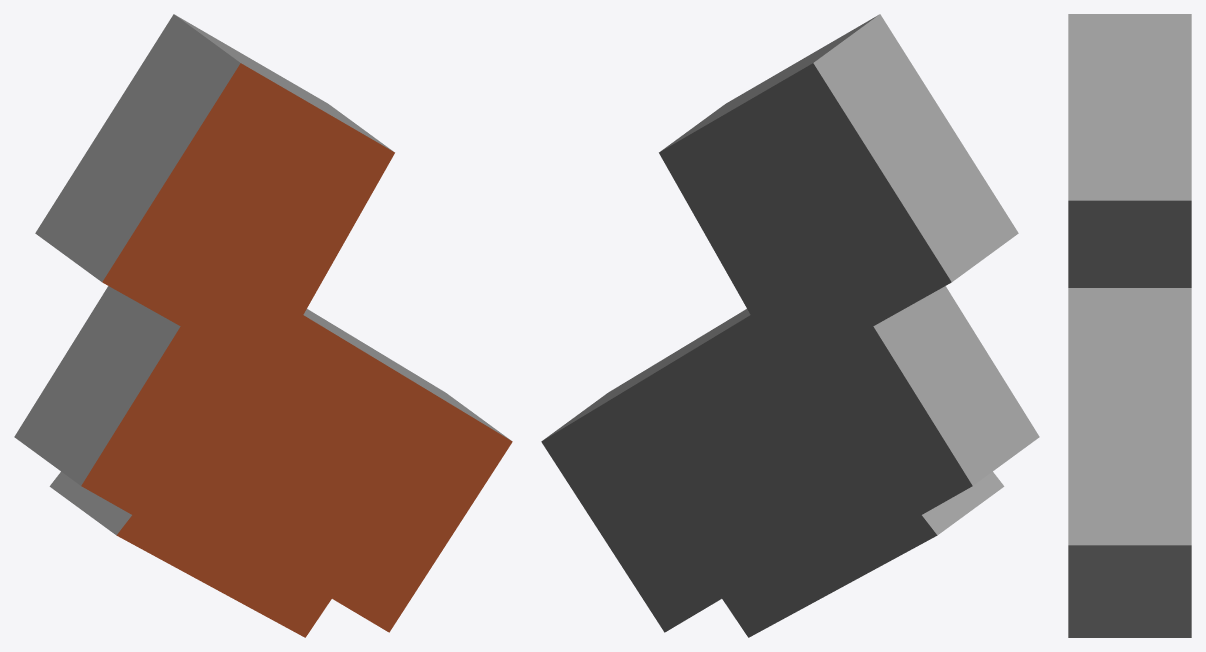
The model's file is construction_3632_assumed_A_Casa_h6m.obj.
The picture shows the model from 3 angles, left to right: view 1: azimuth 30°, elevation 25°; view 2: azimuth 150°, elevation 25°; view 3: azimuth 270°, elevation 25°; orthographic projection. The views are drawn at different scales.
Visible parts, largest first — view 1: construction_3632_assumed_A_Casa; view 2: construction_3632_assumed_A_Casa; view 3: construction_3632_assumed_A_Casa.
Part boxes in pixels (x1=…): construction_3632_assumed_A_Casa: x1=14, y1=14, x2=512, y2=637; construction_3632_assumed_A_Casa: x1=541, y1=14, x2=1039, y2=637; construction_3632_assumed_A_Casa: x1=1068, y1=14, x2=1191, y2=637.
Bounding box in the file's own units: 22.33 × 29.96 × 6.
